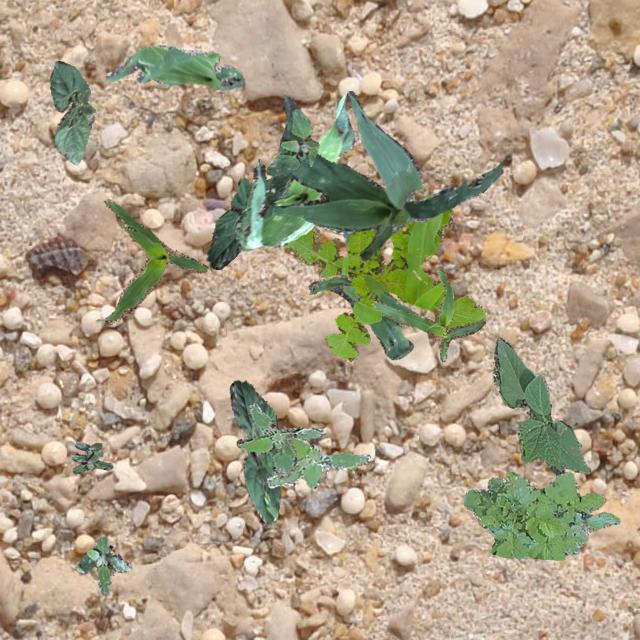crop: (270, 90, 502, 260), (234, 94, 356, 250), (308, 232, 416, 358), (492, 336, 590, 474), (102, 198, 206, 324), (370, 266, 484, 360), (206, 172, 292, 268), (228, 379, 280, 524), (105, 44, 242, 89), (50, 60, 94, 164)
weed: (283, 207, 485, 361), (462, 469, 618, 558), (235, 402, 324, 476), (266, 436, 370, 488), (266, 108, 318, 176), (74, 536, 130, 594), (72, 440, 112, 472)
